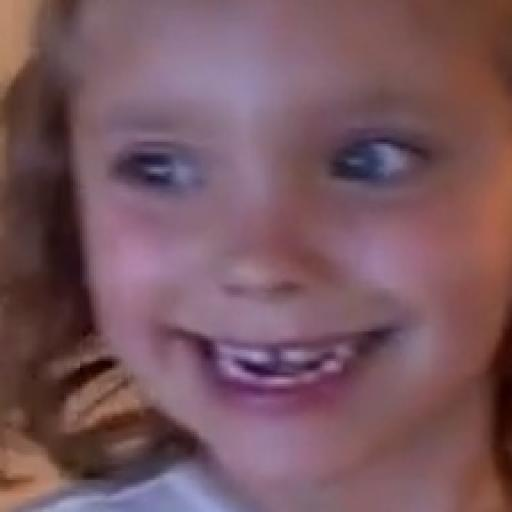Autism: (52, 1, 471, 385)
